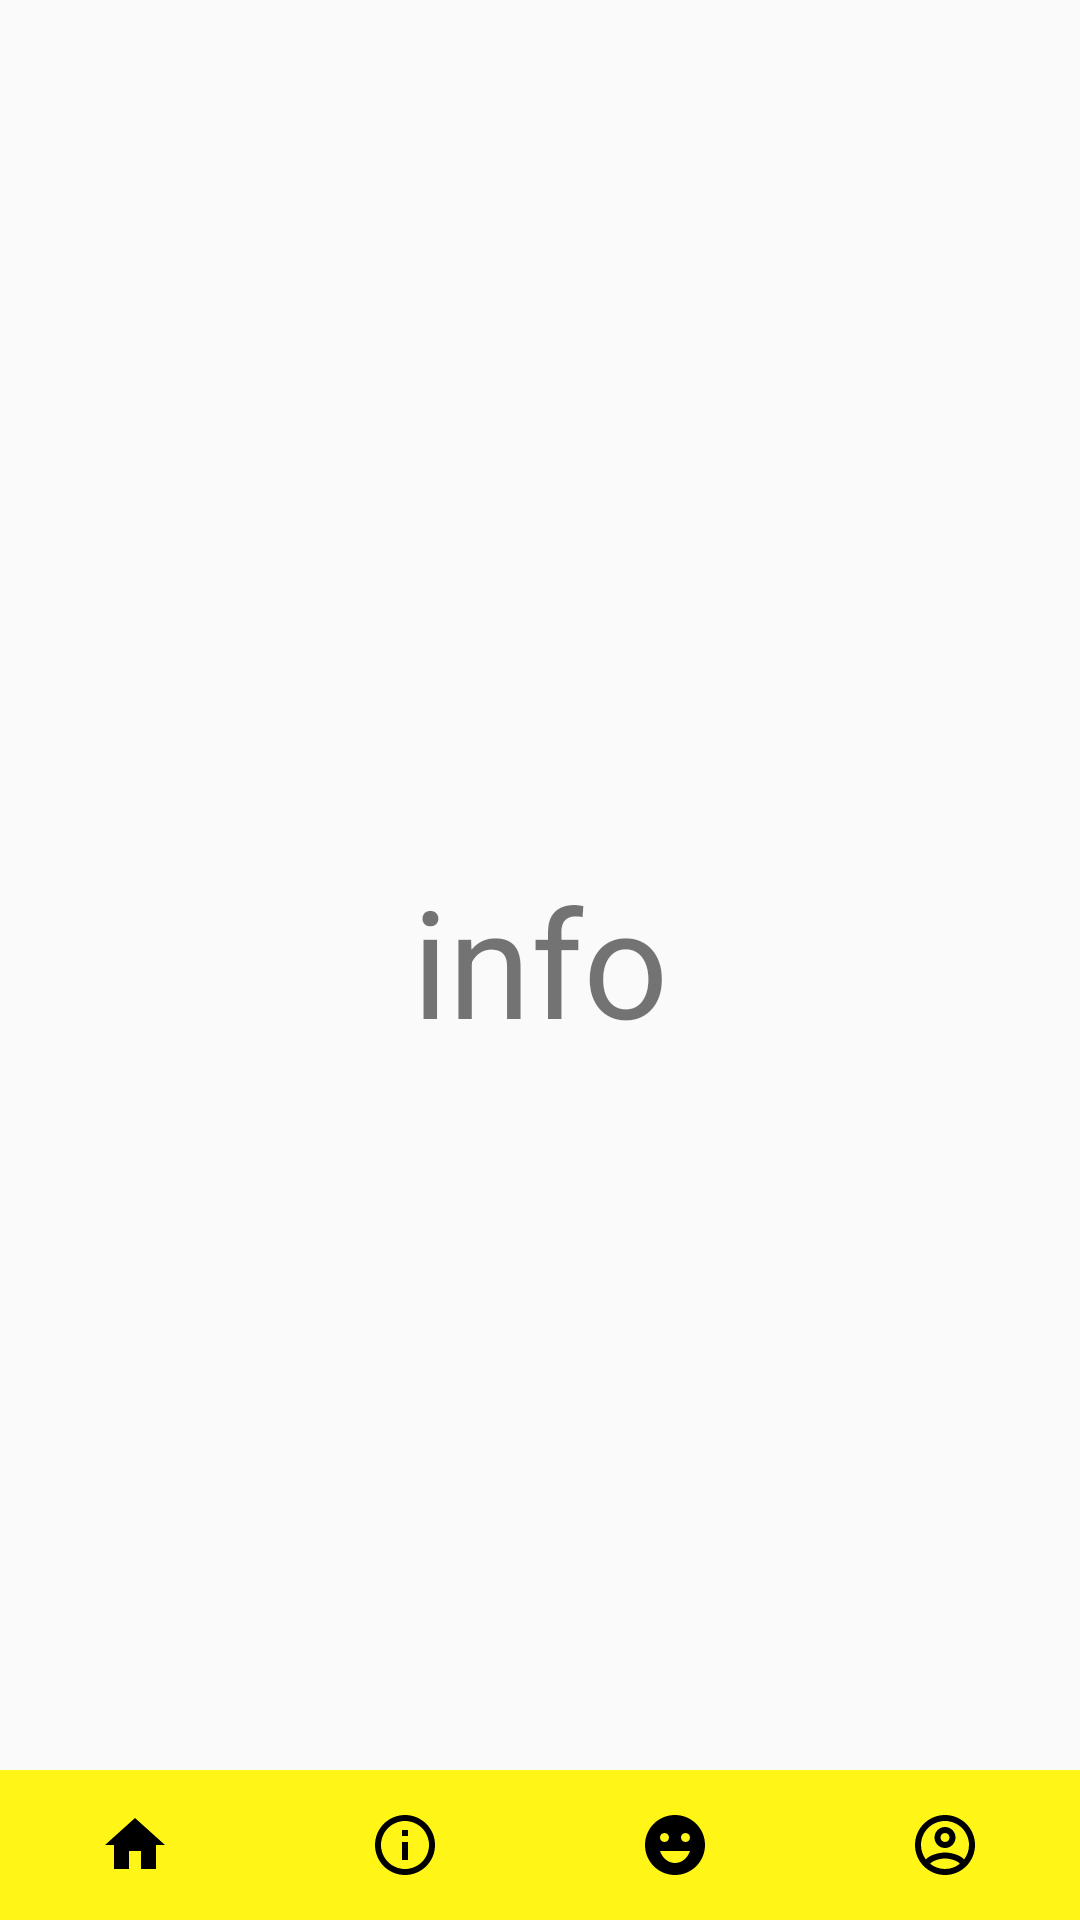

Icons on this 1080w x 1920h Android screen, each with the point to tap as [x,y]:
account circle: [945,1845]
emoji emotions: [675,1845]
home: [135,1843]
